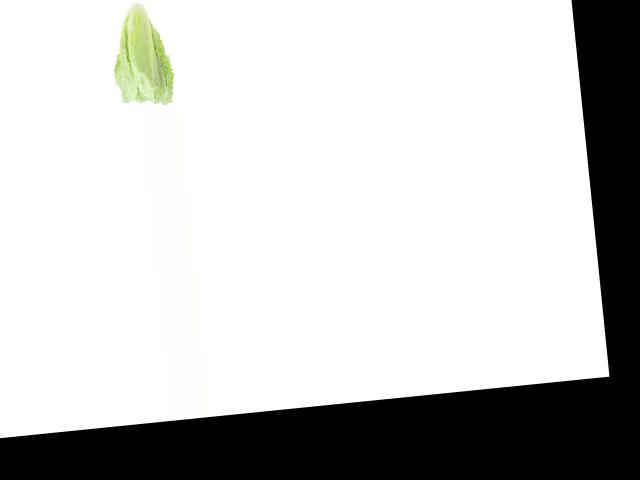lettuce: (100, 0, 179, 110)
